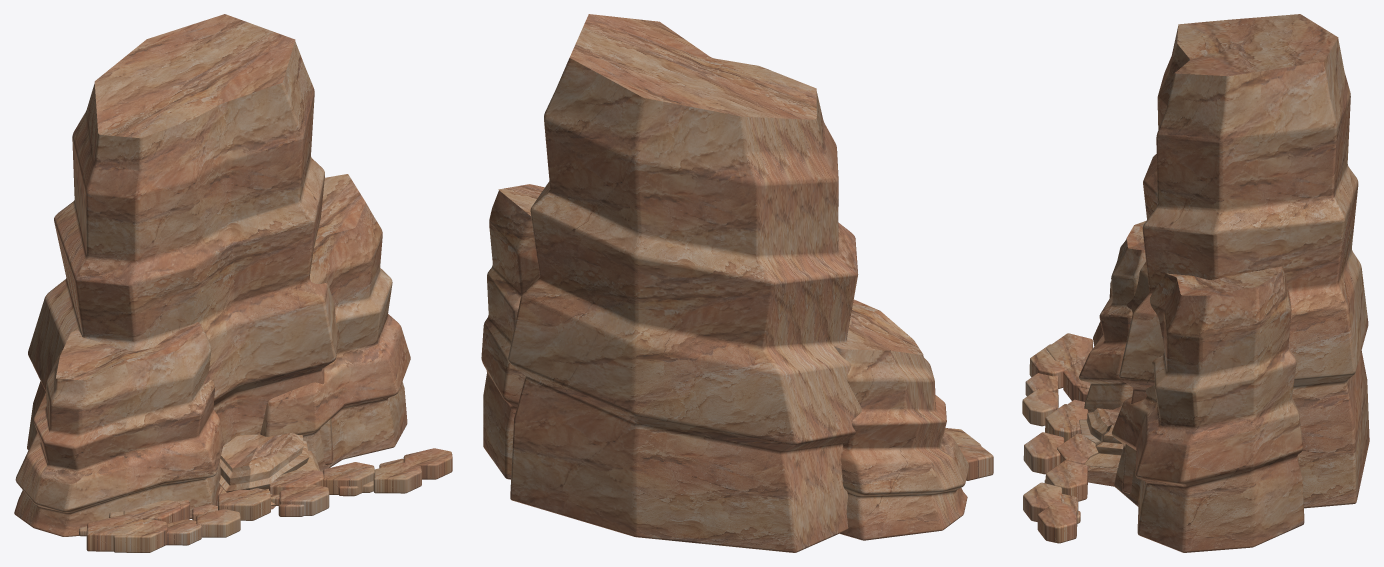
The model's file is cliff_02.glb.
The picture shows the model from 3 angles, left to right: view 1: azimuth 30°, elevation 25°; view 2: azimuth 150°, elevation 25°; view 3: azimuth 270°, elevation 25°; orthographic projection. The views are drawn at different scales.
Visible parts, largest first — view 1: Canyon buttress 02; view 2: Canyon buttress 02; view 3: Canyon buttress 02.
Part boxes in pixels (bbox=[...]): Canyon buttress 02: bbox=[14, 14, 452, 552]; Canyon buttress 02: bbox=[481, 14, 993, 552]; Canyon buttress 02: bbox=[1022, 14, 1369, 552].
Size of the model in its own units: 11.02 by 10.71 by 7.77.
Materials: 1 (1 with a texture image).
